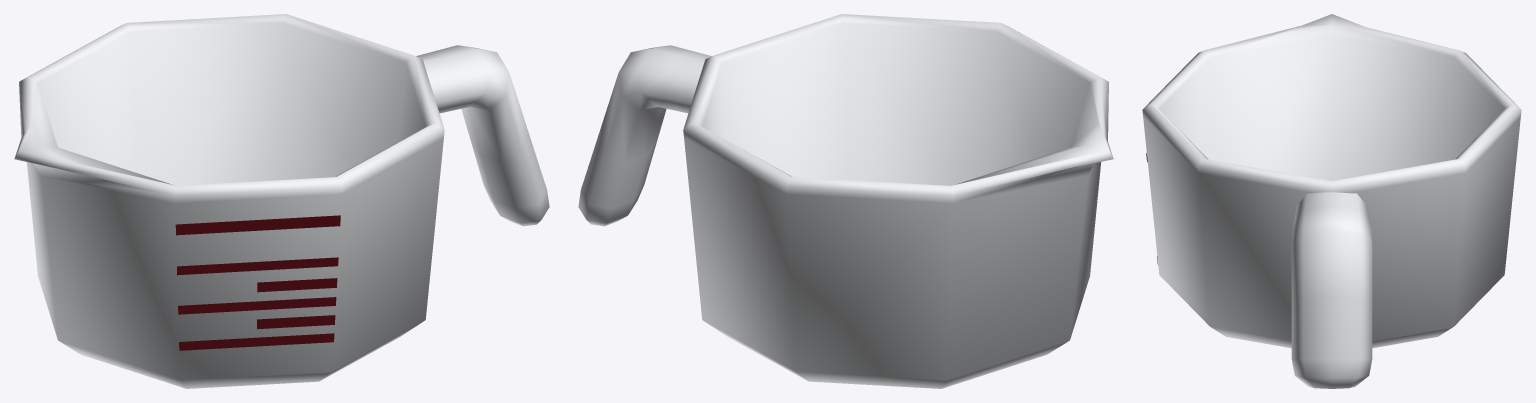
The model's file is cooking_assets_measuring_cup.glb.
3 views of the same model, side by side, from view 1: azimuth 30°, elevation 25°; view 2: azimuth 150°, elevation 25°; view 3: azimuth 270°, elevation 25° (orthographic). The views are drawn at different scales.
Visible parts, largest first — view 1: mcup_measuring_cup_large_Cylinder.012; view 2: mcup_measuring_cup_large_Cylinder.012; view 3: mcup_measuring_cup_large_Cylinder.012.
Boxes of the visible parts, left/top/right/bottom form: mcup_measuring_cup_large_Cylinder.012: left=14, top=14, right=549, bottom=388; mcup_measuring_cup_large_Cylinder.012: left=578, top=14, right=1113, bottom=388; mcup_measuring_cup_large_Cylinder.012: left=1142, top=14, right=1521, bottom=388.
Size of the model in its own units: 5.83 by 2.32 by 4.23.
2 materials, 2 textured.
